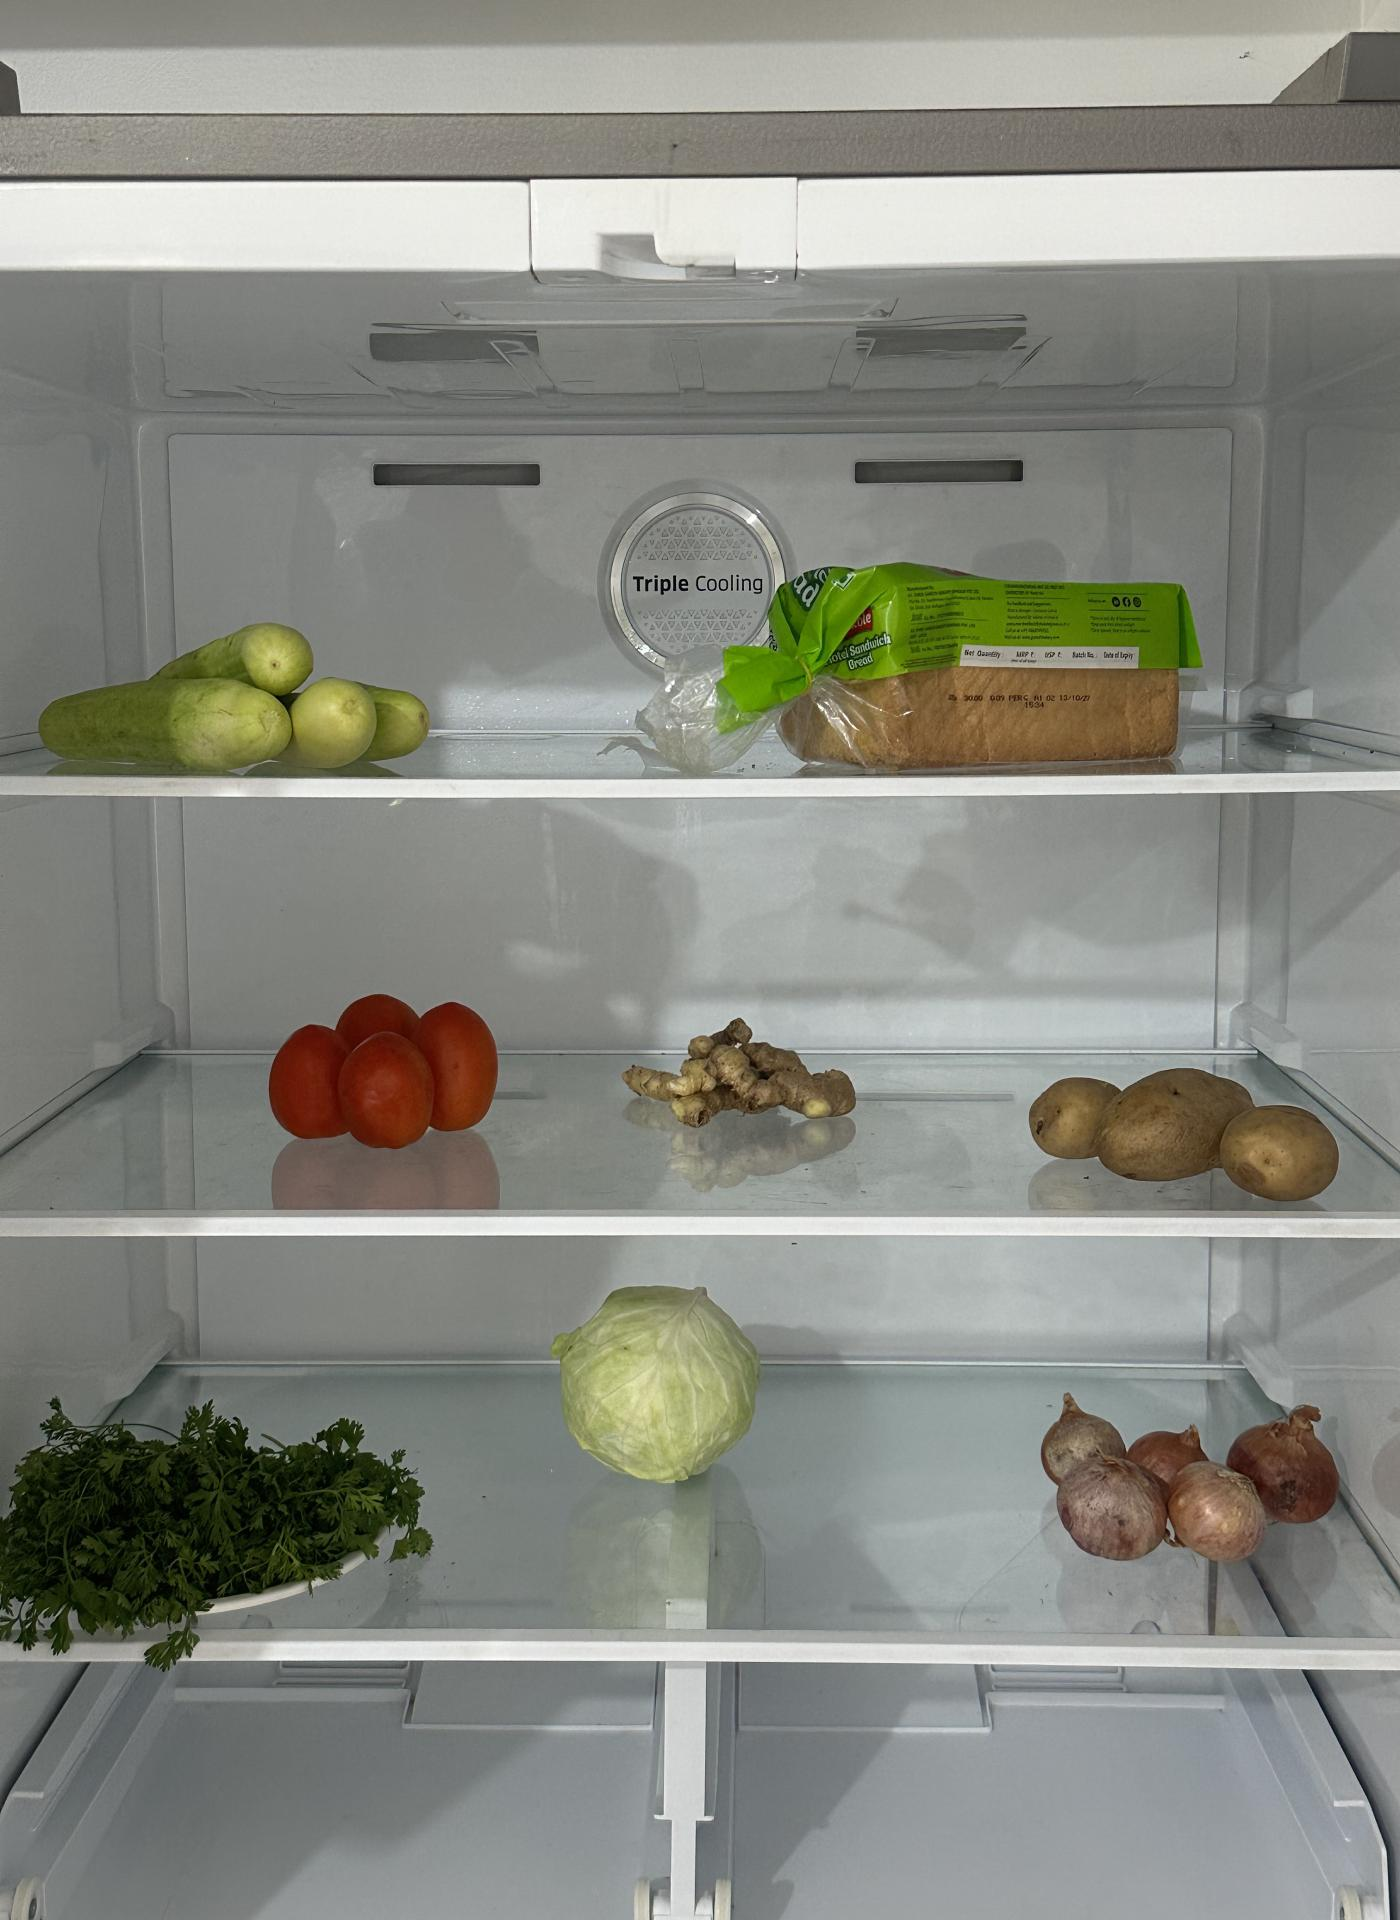bread: (766, 558, 1215, 769)
cabbage: (556, 1279, 757, 1476)
coriander: (34, 1403, 417, 1616)
cucumber: (36, 620, 426, 769)
ginger: (625, 1012, 860, 1139)
onion: (1041, 1382, 1342, 1564)
potato: (1024, 1063, 1340, 1201)
tomato: (268, 991, 496, 1142)
